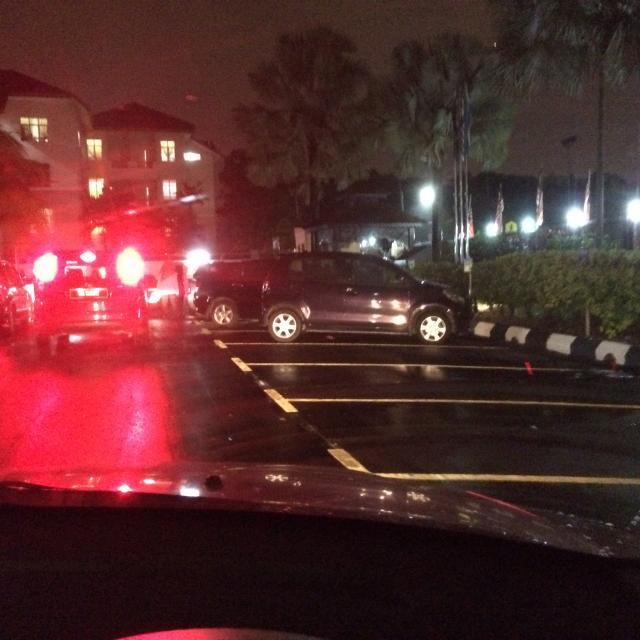Car: (197, 233, 476, 377), (22, 237, 164, 371), (177, 252, 268, 348)
